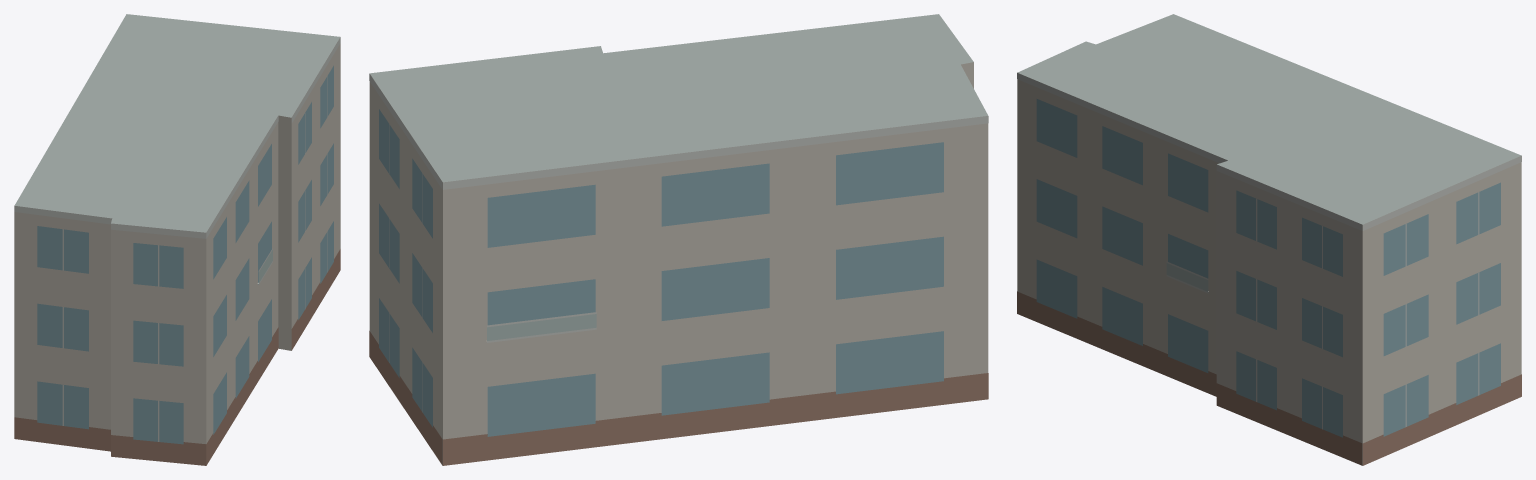
Rendered from survey-upis-32604180.glb.
3 renders of one model, left to right at view 1: azimuth 30°, elevation 25°; view 2: azimuth 150°, elevation 25°; view 3: azimuth 270°, elevation 25°, orthographic. The views are drawn at different scales.
Parts seen in each view (by area): view 1: survey-upis-32604180.tmp; view 2: survey-upis-32604180.tmp; view 3: survey-upis-32604180.tmp.
Part boxes in pixels (bbox=[...]): survey-upis-32604180.tmp: bbox=[14, 14, 340, 465]; survey-upis-32604180.tmp: bbox=[369, 14, 988, 465]; survey-upis-32604180.tmp: bbox=[1017, 14, 1521, 465].
Size of the model in its own units: 17.16 by 9.15 by 17.36.
